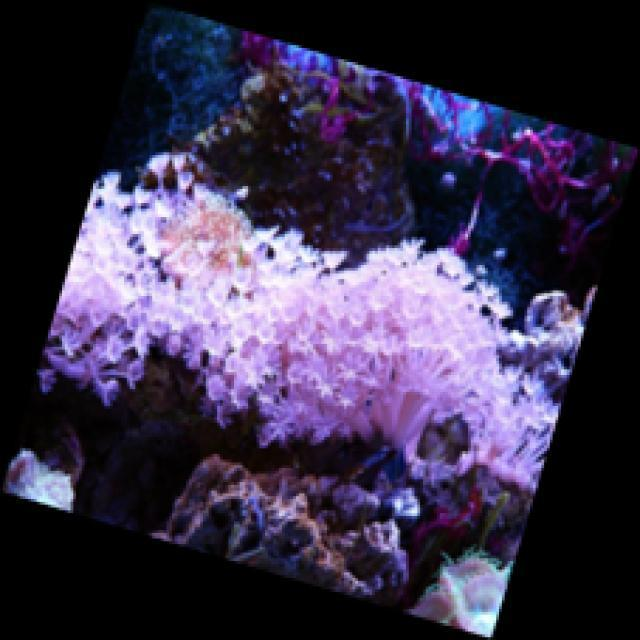Healthy: (46, 163, 562, 493)
